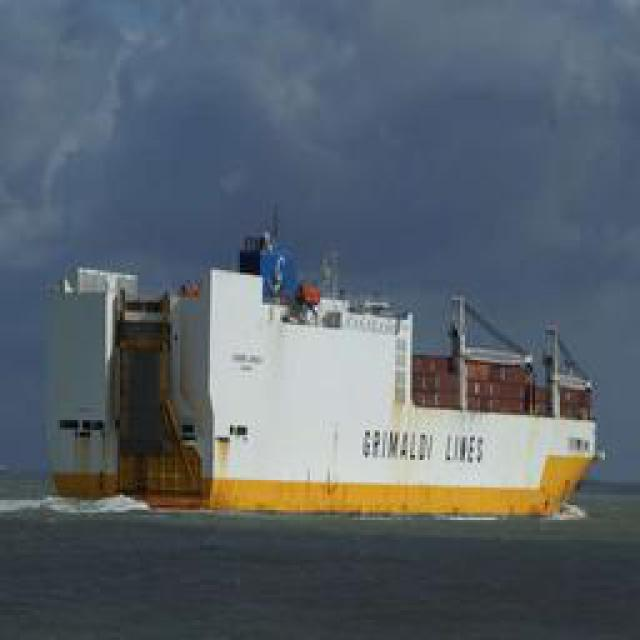Ship: (36, 256, 604, 512)
